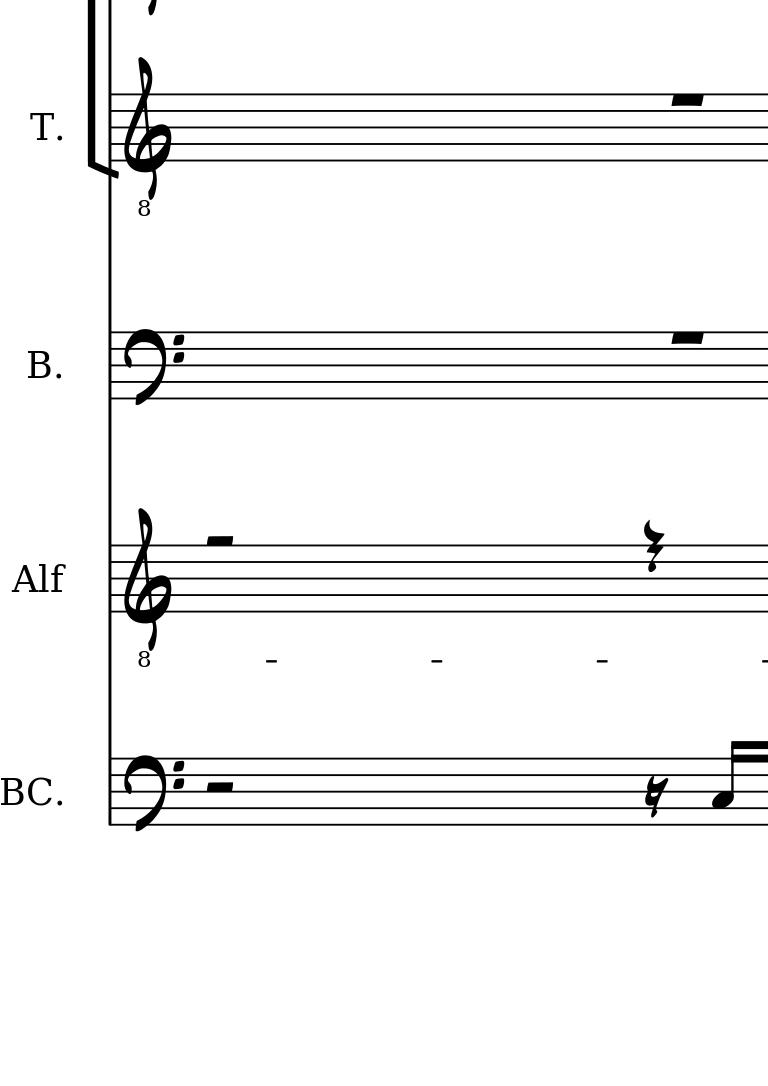16_3: (710, 738, 744, 827)
Fclef: (123, 326, 188, 409), (122, 753, 185, 834)
Lower_Gclef: (120, 506, 175, 669), (123, 56, 174, 220)
Rests1: (667, 90, 709, 111), (666, 328, 708, 348)
Rests2: (201, 531, 237, 552), (202, 779, 238, 798)
Rests4: (642, 518, 666, 575), (643, 774, 669, 820)
Single_barline: (102, 332, 119, 399), (104, 95, 119, 166), (102, 760, 118, 824), (103, 546, 118, 614)
